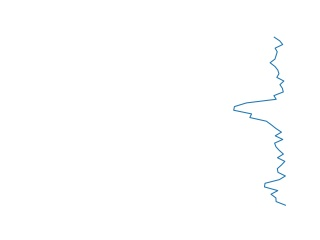interdistributaryEstuary: (228, 35, 295, 208)
